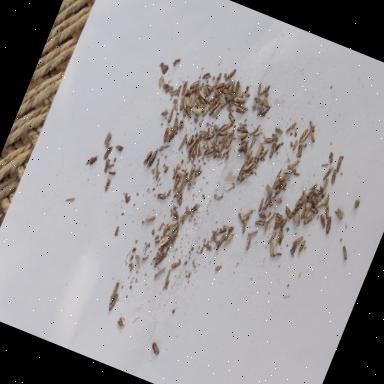pbw: (143, 147, 158, 172), (107, 290, 120, 312), (322, 214, 335, 234), (154, 248, 168, 266), (252, 140, 264, 160), (322, 162, 334, 182), (158, 231, 172, 248), (245, 158, 258, 176), (234, 163, 246, 182), (194, 92, 210, 106), (224, 66, 237, 83), (264, 241, 277, 258), (109, 280, 120, 300), (186, 81, 199, 97), (153, 264, 166, 280), (286, 156, 299, 172), (178, 94, 191, 110), (290, 201, 302, 218), (169, 162, 180, 180), (215, 234, 226, 252), (273, 228, 284, 246), (225, 132, 236, 150), (187, 136, 198, 154), (212, 78, 226, 92), (148, 342, 162, 356), (302, 211, 314, 227), (192, 141, 204, 157), (258, 82, 270, 98), (306, 127, 318, 143), (338, 244, 350, 260), (178, 80, 190, 96), (316, 212, 328, 228), (182, 104, 194, 120), (150, 164, 162, 180), (334, 154, 344, 173), (187, 170, 198, 187), (186, 144, 197, 161), (288, 213, 302, 226), (166, 216, 179, 230), (151, 249, 164, 263), (203, 144, 216, 158), (260, 217, 270, 235), (212, 70, 222, 88), (186, 163, 196, 181), (298, 125, 308, 143), (236, 119, 248, 134), (178, 132, 188, 150), (231, 78, 241, 96), (248, 122, 260, 137), (142, 148, 152, 166), (242, 158, 254, 173), (218, 136, 228, 154), (168, 226, 178, 244), (238, 218, 249, 234), (265, 230, 276, 246), (223, 231, 234, 247), (243, 234, 254, 250), (101, 176, 112, 192), (168, 220, 179, 236), (187, 92, 198, 108), (294, 142, 305, 158), (298, 203, 308, 220), (296, 238, 306, 255), (274, 180, 287, 193), (217, 91, 230, 104), (332, 207, 345, 220), (220, 120, 232, 134), (260, 95, 272, 109), (170, 186, 182, 200), (202, 129, 214, 143), (216, 132, 228, 146), (240, 168, 252, 182), (132, 254, 144, 268), (208, 100, 219, 115), (160, 127, 171, 142), (171, 174, 180, 192), (176, 176, 186, 192), (209, 94, 219, 110), (300, 128, 310, 144), (212, 103, 222, 119), (256, 196, 266, 212), (178, 176, 188, 192), (234, 84, 244, 100), (328, 168, 338, 184), (271, 174, 281, 190), (266, 142, 276, 158), (322, 203, 332, 219), (184, 134, 194, 150), (308, 193, 320, 206), (282, 206, 294, 219), (216, 94, 228, 107), (265, 210, 276, 224), (163, 268, 172, 285), (288, 240, 298, 255), (260, 146, 270, 161), (286, 120, 296, 135), (228, 79, 238, 94), (160, 222, 169, 238), (236, 129, 248, 141), (278, 172, 290, 184), (262, 184, 274, 196), (262, 134, 274, 146), (192, 96, 204, 108), (306, 119, 317, 132), (252, 125, 263, 138), (242, 207, 253, 220), (322, 192, 332, 206), (222, 142, 232, 156), (278, 216, 288, 230), (201, 104, 210, 119), (247, 226, 258, 238), (196, 88, 207, 100), (170, 258, 181, 270), (156, 190, 168, 201), (263, 195, 273, 208), (176, 97, 186, 110), (176, 192, 185, 206), (320, 178, 329, 192), (144, 213, 155, 224), (310, 187, 321, 198), (226, 112, 237, 123), (200, 84, 211, 95), (204, 139, 214, 151), (246, 149, 254, 164), (308, 204, 320, 214), (252, 96, 264, 106), (273, 212, 285, 222), (216, 128, 228, 138), (234, 106, 246, 116), (166, 108, 174, 122), (190, 106, 201, 116), (271, 195, 282, 205), (282, 166, 294, 175), (226, 127, 234, 140), (302, 205, 310, 218), (256, 82, 264, 95), (234, 212, 244, 222), (170, 208, 180, 218), (222, 86, 232, 96), (254, 218, 264, 228), (203, 96, 213, 106), (270, 132, 280, 142), (195, 104, 206, 113), (309, 180, 318, 191), (238, 102, 249, 111), (249, 137, 256, 151), (180, 106, 188, 118), (230, 98, 240, 107), (239, 90, 250, 98), (274, 125, 285, 133), (213, 152, 224, 160), (176, 168, 187, 176), (243, 152, 250, 164), (291, 140, 298, 152), (235, 96, 245, 104), (198, 128, 208, 136), (240, 126, 250, 134), (206, 150, 214, 159), (315, 200, 324, 208), (258, 212, 268, 219), (204, 84, 214, 90)
